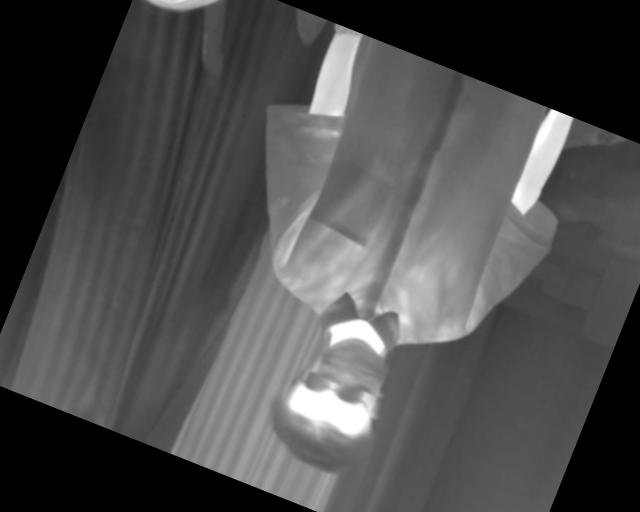face: (45, 144, 258, 383), (408, 359, 534, 502)
